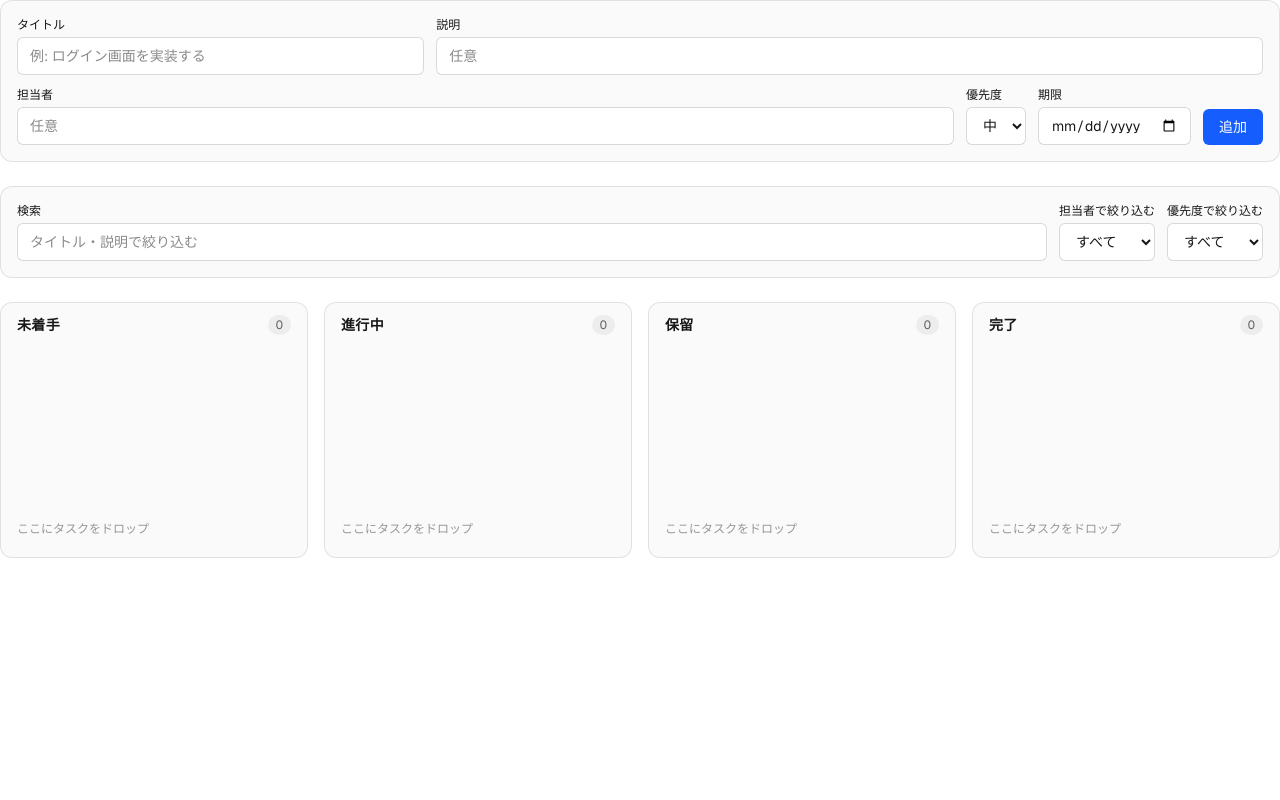
Test case: Board › 追加したタスクが未着手の列に現れる
Step 1. Type "テストを書く" into the field labelled "タイトル" → [221, 56], box [17, 37, 424, 75]
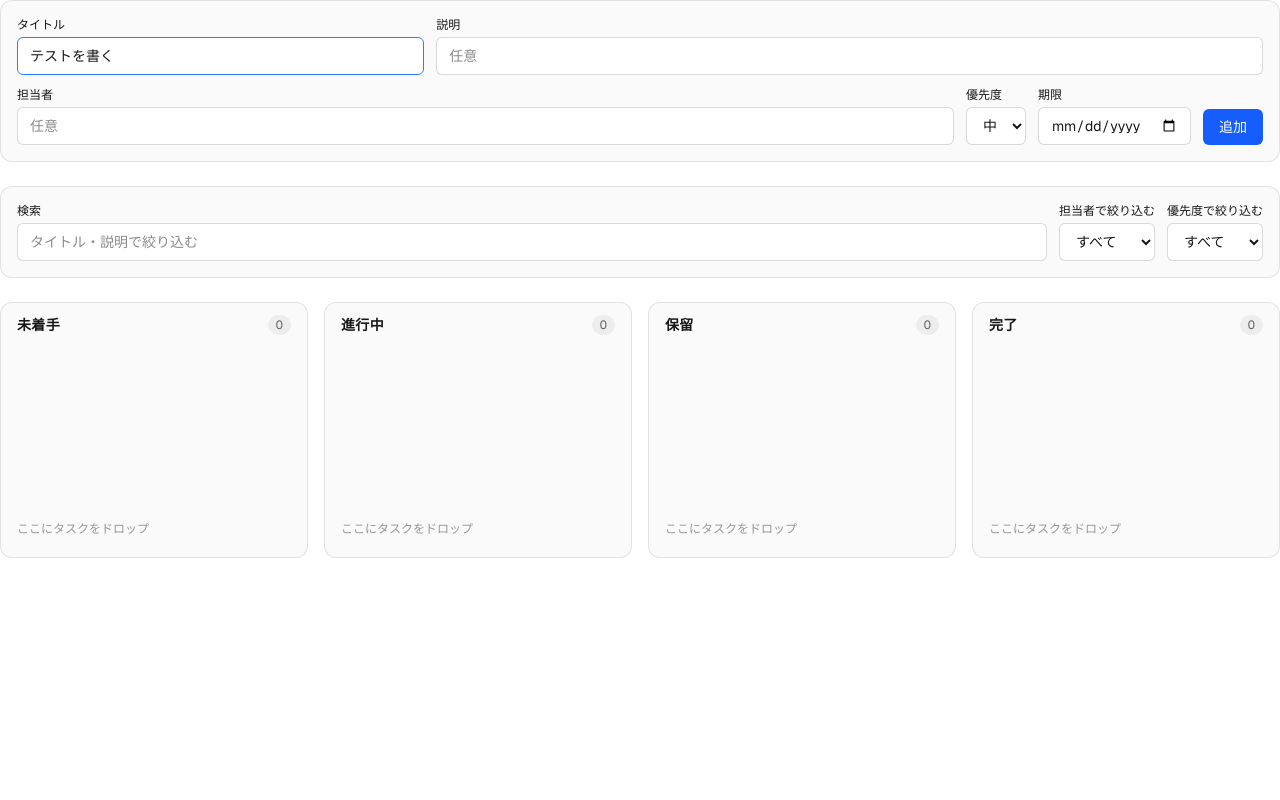
Step 2. Type "Vitest で" into the field labelled "説明" → [850, 56], box [436, 37, 1263, 75]
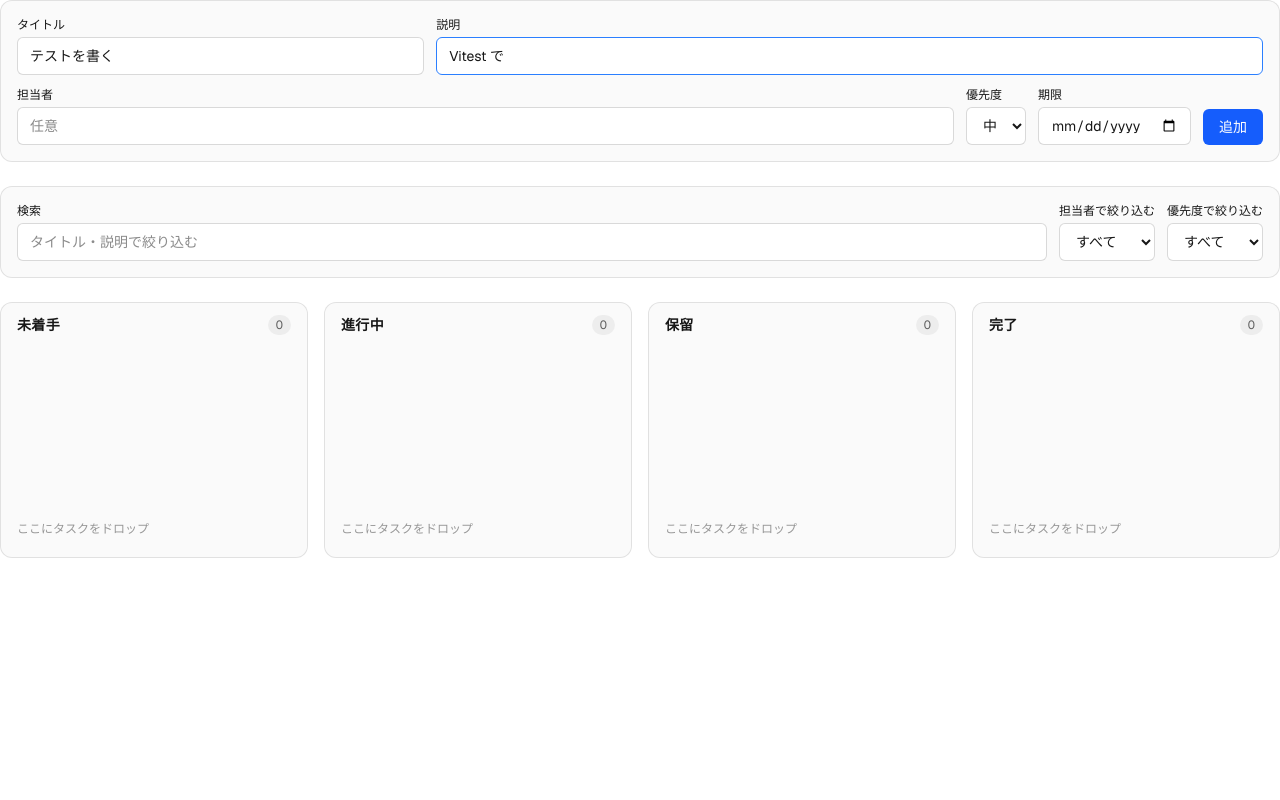
Step 3. Click the button "追加" → [1233, 127], box [1203, 109, 1263, 145]
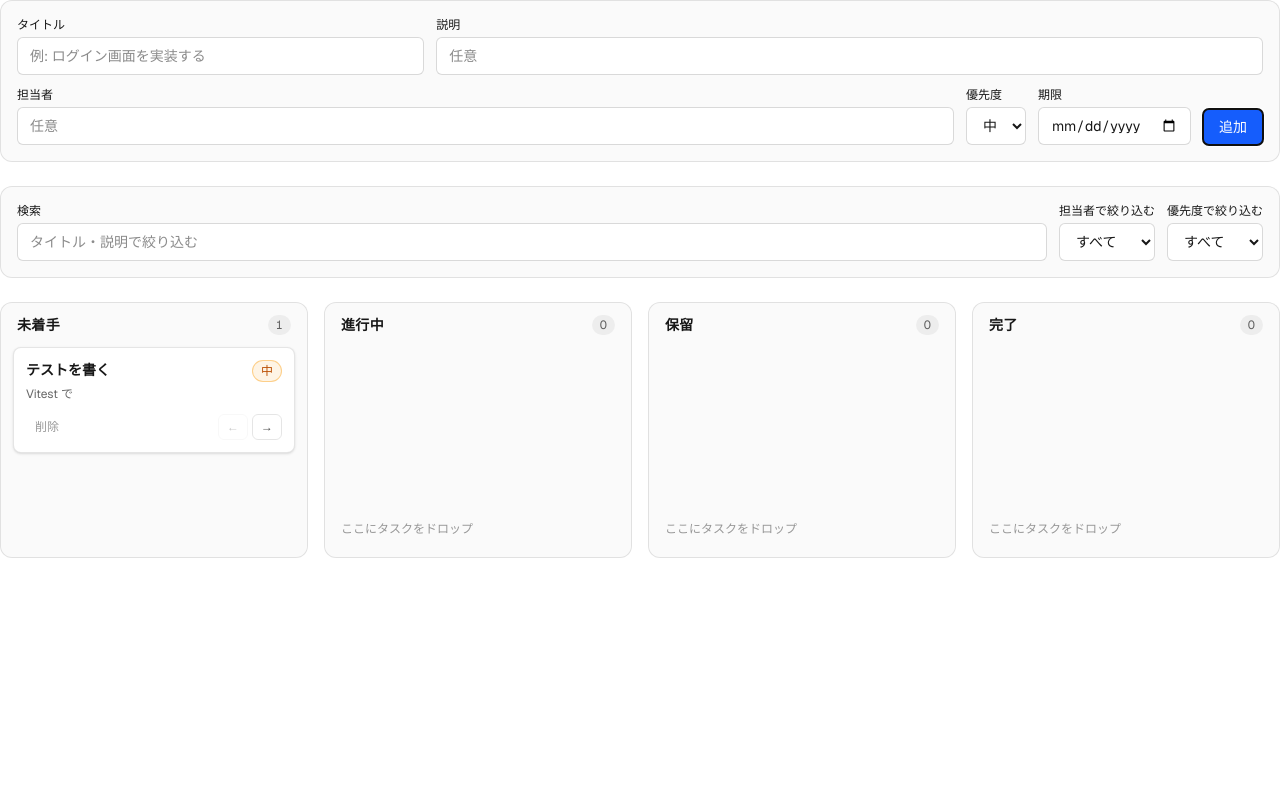
Check: the heading "テストを書く" is shown, box [26, 360, 110, 380]
Check: the text "Vitest で" is shown, box [26, 386, 73, 402]
Check: the text named "未着手のタスク数" reads "1", box [276, 317, 283, 333]
